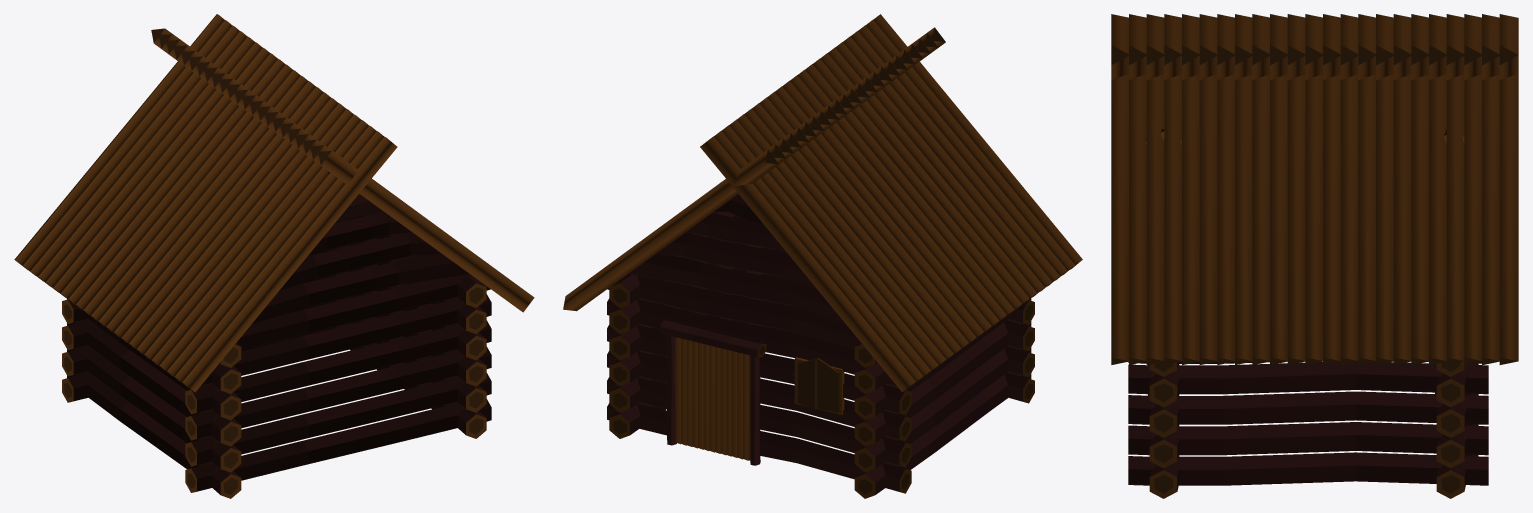
The model's file is pitsGarageCorner_1.fbx.
3 renders of one model, left to right at view 1: azimuth 30°, elevation 25°; view 2: azimuth 150°, elevation 25°; view 3: azimuth 270°, elevation 25°, orthographic. The views are drawn at different scales.
Visible parts, largest first — view 1: pitsGarageCorner_1; view 2: pitsGarageCorner_1; view 3: pitsGarageCorner_1.
Part boxes in pixels (<box>): pitsGarageCorner_1: <box>14,14,534,498</box>; pitsGarageCorner_1: <box>563,14,1082,498</box>; pitsGarageCorner_1: <box>1111,14,1518,498</box>.
Size of the model in its own units: 8.11 by 7.01 by 7.3.
